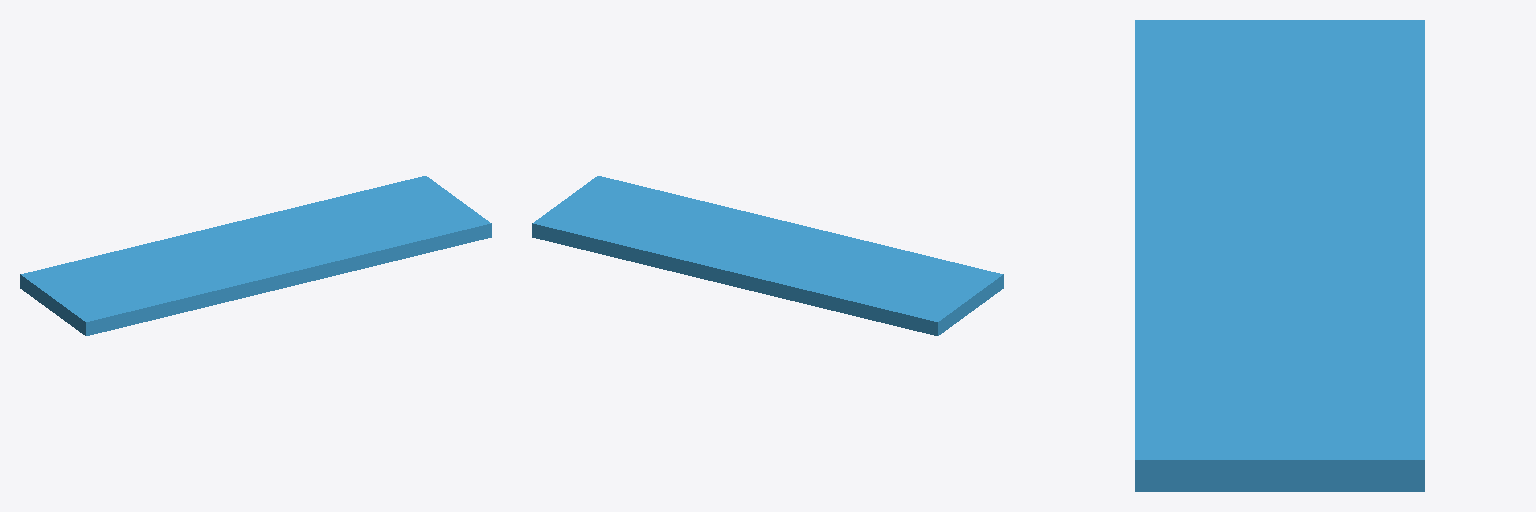
URDF robot description (cylinder_36):
    
    <robot name="cylinder_36">
        <link name="cylinder_36">    
            <fem>
                <origin rpy="0.0 0.0 0.0" xyz="0 0 0" />
                <density value="100" />
                <youngs value="6795"/>
                <poissons value="0.3" />
                <damping value="0.0" />
                <attachDistance value="0.01" />
                <tetmesh filename="[local-path]/sim_data/Custom/Custom_mesh/multi_cylinder_5kPa/cylinder_36.tet" />
                <scale value="0.5"/>
            </fem>
        </link>

        <link name="fix_frame">
            <visual>
                <origin xyz="0.0 0.0 10.079390734407735"/>
                <geometry>
                    <box size="0.15 0.04194462402234861 0.005"/>
                </geometry>
            </visual>
            <collision>
                <origin xyz="0.0 0.0 0.07939073440773528"/>
                <geometry>
                    <box size="0.15 0.04194462402234861 0.005"/>
                </geometry>
            </collision>
            <inertial>
                <mass value="500000"/>
                <inertia ixx="0.05" ixy="0.0" ixz="0.0" iyy="0.05" iyz="0.0" izz="0.05"/>
            </inertial>
        </link>
        
        <joint name = "attach" type = "fixed">
            <origin xyz = "0.0 0.0 0.0" rpy = "0 0 0"/>
            <parent link ="cylinder_36"/>
            <child link = "fix_frame"/>
        </joint>  




    </robot>
    

--- Facts derived from the render (not from the file) ---
3 views of the same robot in one strip: view 1: azimuth 30°, elevation 25°; view 2: azimuth 150°, elevation 25°; view 3: azimuth 270°, elevation 25° (orthographic).
Model cylinder_36 with 2 links and 1 joints (1 fixed), rooted at cylinder_36, posed all joints at 0.
Visible links, largest first — view 1: fix_frame; view 2: fix_frame; view 3: fix_frame.
Link boxes in pixels (x1,y1,x2,y2): fix_frame: (20,176,491,335); fix_frame: (532,176,1003,335); fix_frame: (1135,20,1424,491).
Size in the robot's own frame: 0.15 by 0.0419 by 0.005 metres.
Geometry: primitives only (box / cylinder / sphere), no mesh files.